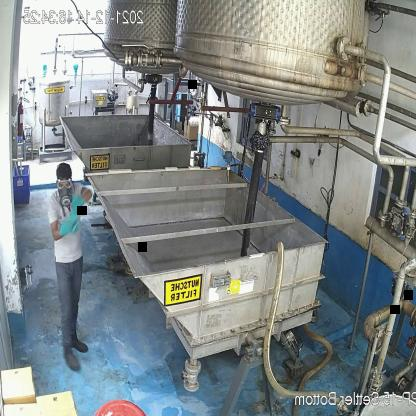goggles: (54, 174, 74, 191)
shoes: (60, 345, 80, 372), (69, 333, 89, 354)
